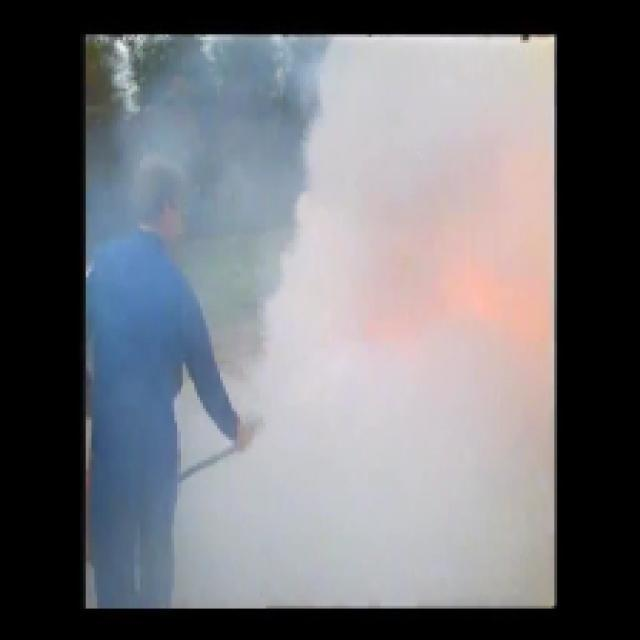Smoke: (317, 71, 552, 603)
